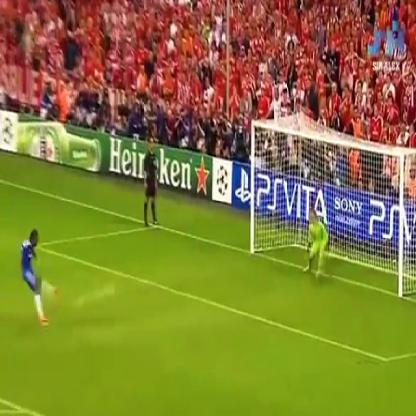penalty kick: (8, 106, 345, 332)
